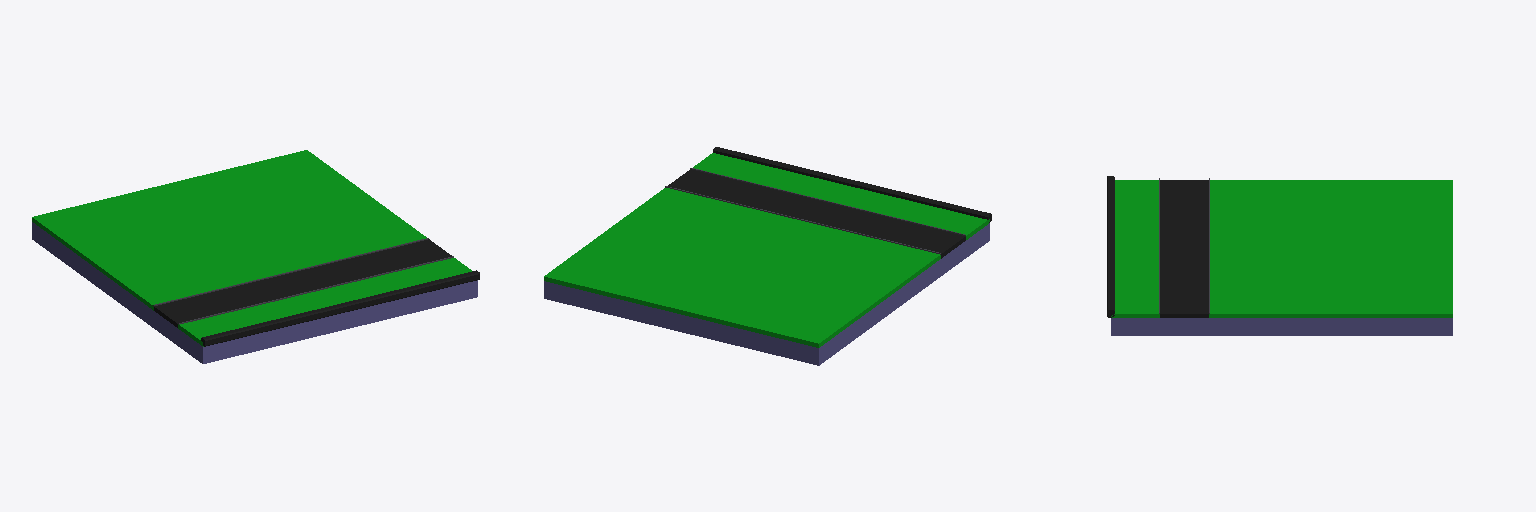
Rendered from MenuRoad.obj.
3 views of the same model, side by side, from view 1: azimuth 30°, elevation 25°; view 2: azimuth 150°, elevation 25°; view 3: azimuth 270°, elevation 25° (orthographic).
Parts seen in each view (by area): view 1: block, arch_horizontal, detail_fence_center; view 2: block, arch_horizontal, detail_fence_center; view 3: block, arch_horizontal.
Part boxes in pixels (bbox=[...]): block: bbox=[32, 150, 477, 363]; arch_horizontal: bbox=[201, 270, 479, 346]; detail_fence_center: bbox=[153, 238, 453, 324]; block: bbox=[544, 153, 989, 365]; arch_horizontal: bbox=[713, 147, 991, 222]; detail_fence_center: bbox=[665, 168, 965, 254]; block: bbox=[1111, 180, 1452, 335]; arch_horizontal: bbox=[1107, 176, 1114, 317].
Size of the model in its own units: 13 by 1.17 by 14.16.